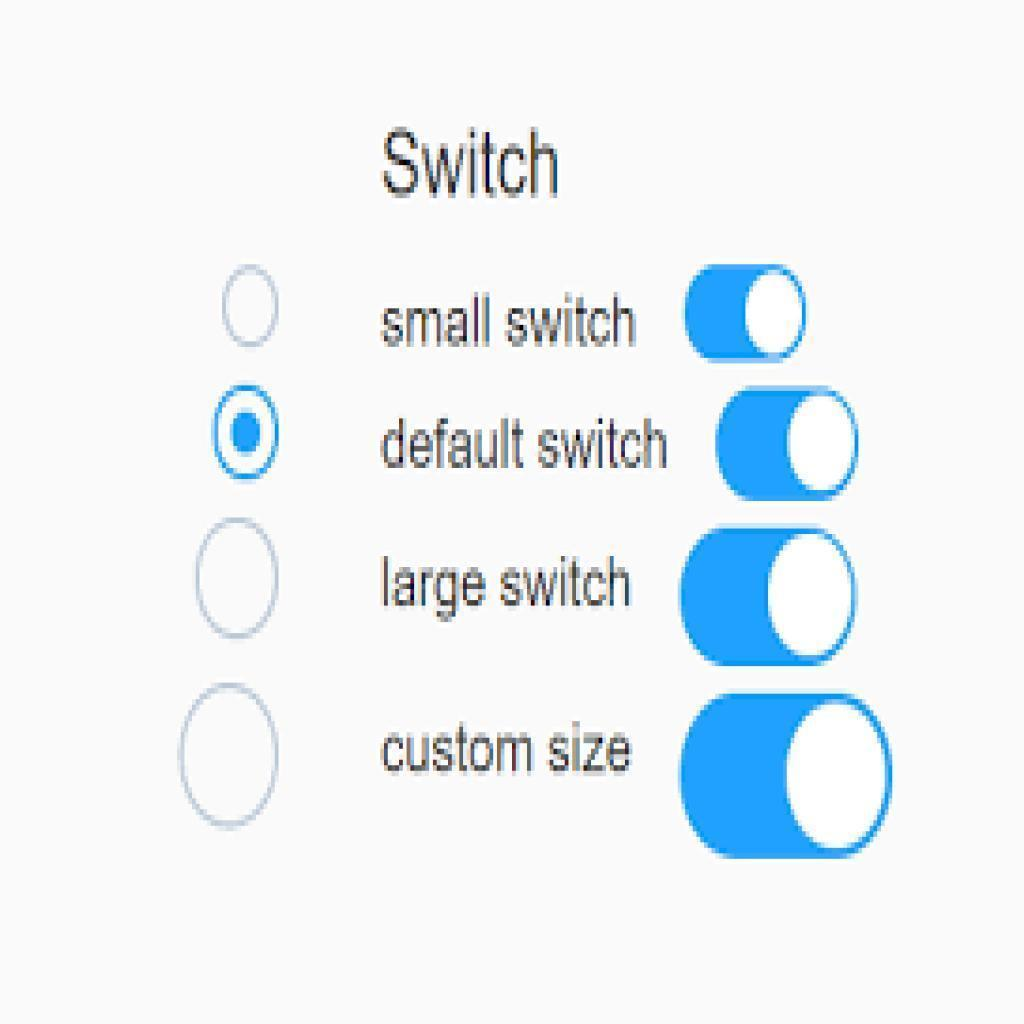radio: (179, 682, 281, 833), (194, 517, 282, 643), (206, 376, 280, 484), (217, 262, 288, 350)
switch: (679, 695, 892, 856), (681, 526, 856, 665), (718, 385, 858, 504), (687, 263, 807, 362)
